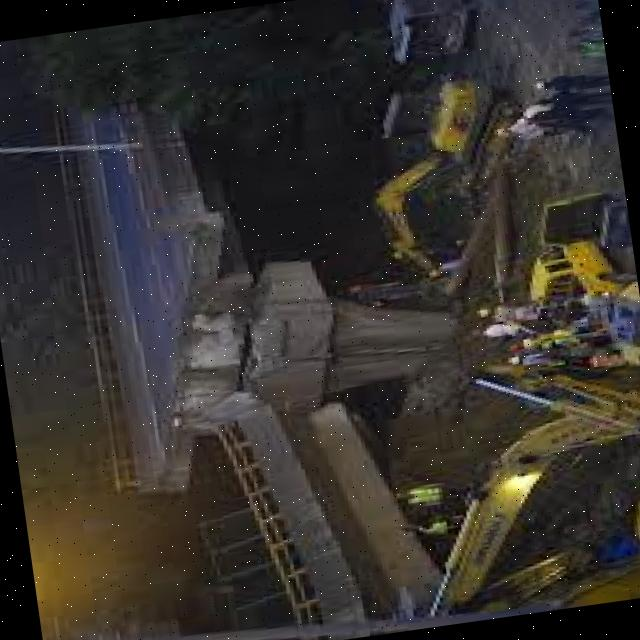bridge collapse: (26, 143, 462, 640)
